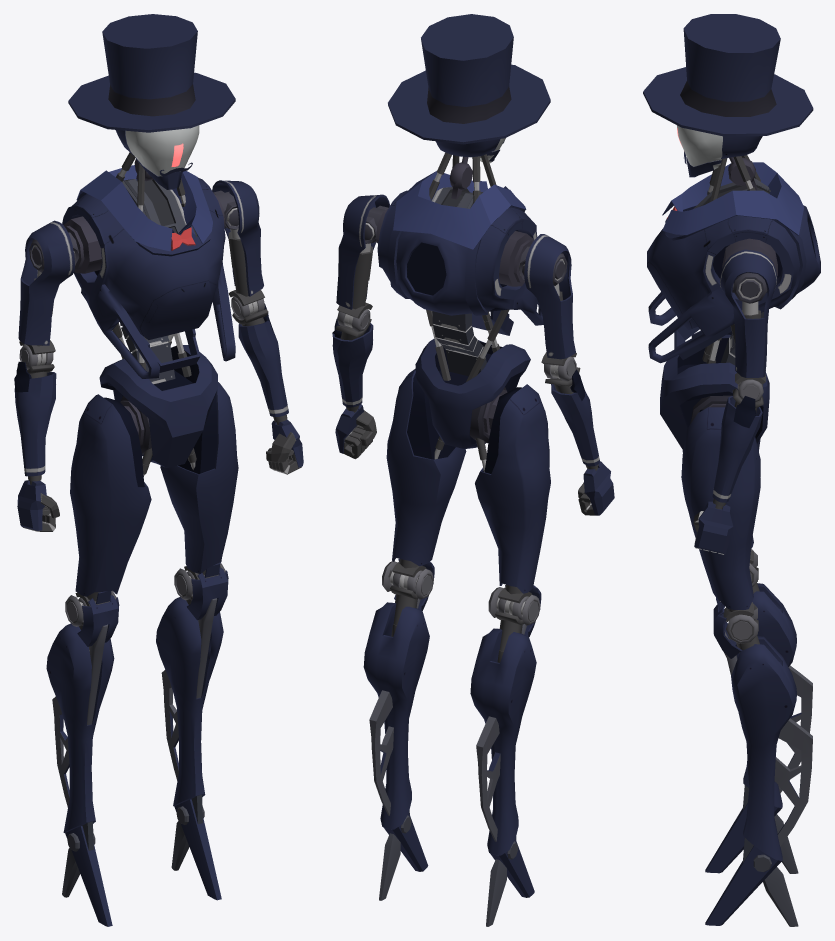
File: Gentleman.Ctrl+J.fbx
The picture shows the model from 3 angles, left to right: view 1: azimuth 30°, elevation 25°; view 2: azimuth 150°, elevation 25°; view 3: azimuth 270°, elevation 25°; orthographic projection. The views are drawn at different scales.
Visible parts, largest first — view 1: Leg, Hat, Foot, Arm, Chest, Head, Bone; view 2: Leg, Hat, Arm, Foot, Chest, Bone, Head; view 3: Leg, Hat, Chest, Arm, Foot, Head, Bone.
Part boxes in pixels (box(x1,y1,x2,y2)): Leg: box(46, 382, 238, 832); Hat: box(29, 14, 238, 454); Foot: box(62, 179, 228, 926); Arm: box(14, 165, 288, 476); Chest: box(62, 177, 235, 378); Head: box(17, 125, 303, 531); Bone: box(14, 228, 287, 650); Leg: box(363, 368, 550, 855); Hat: box(364, 14, 567, 443); Arm: box(332, 171, 600, 466); Foot: box(379, 187, 541, 926); Chest: box(377, 190, 543, 325); Bone: box(332, 243, 598, 662); Head: box(335, 138, 614, 515); Leg: box(681, 407, 812, 860); Hat: box(643, 14, 813, 424); Chest: box(647, 205, 820, 363); Arm: box(662, 162, 803, 502); Foot: box(660, 178, 798, 926); Head: box(677, 125, 762, 554); Bone: box(713, 301, 765, 652).
Bounding box in the file's own units: 138 × 424 × 78.64.
7 materials, 7 textured.
